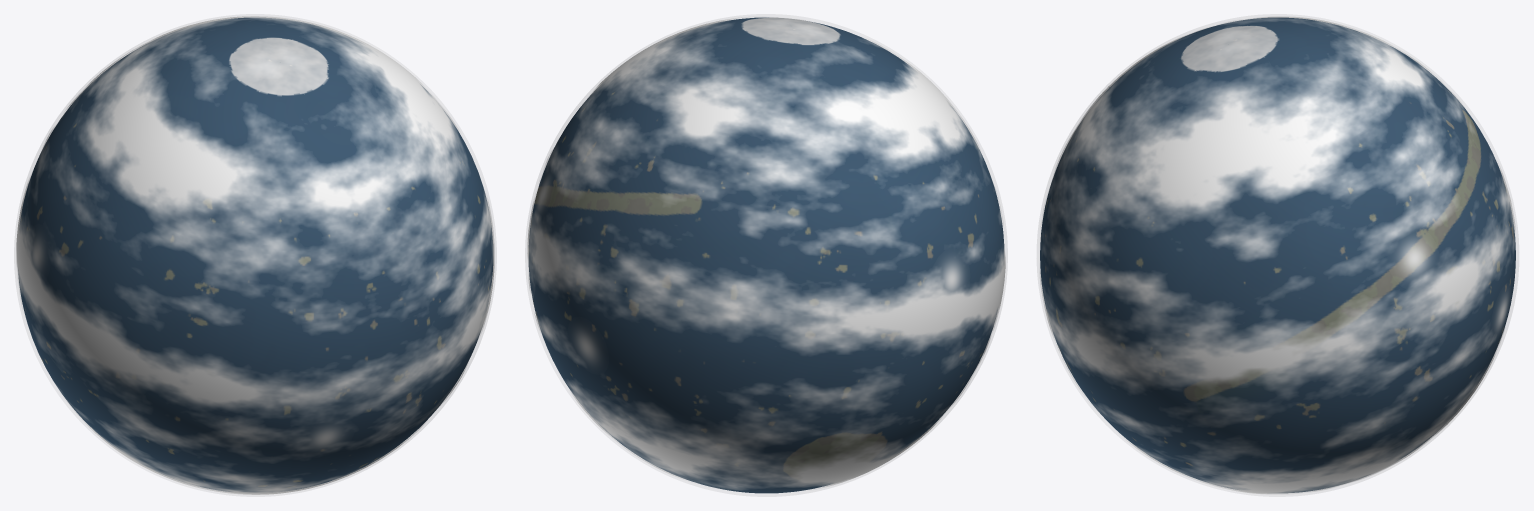
Rendered from kakakiko.glb.
The picture shows the model from 3 angles, left to right: view 1: azimuth 30°, elevation 25°; view 2: azimuth 150°, elevation 25°; view 3: azimuth 270°, elevation 25°; orthographic projection.
Visible parts, largest first — view 1: SM_kakakiko, SM_kakakiko_clouds, SM_kakakiko_seaice_north_winter, SM_kakakiko_atmosphere_PLACEHOLDER; view 2: SM_kakakiko, SM_kakakiko_clouds, SM_kakakiko_atmosphere_PLACEHOLDER, SM_kakakiko_seaice_north_winter; view 3: SM_kakakiko, SM_kakakiko_clouds, SM_kakakiko_atmosphere_PLACEHOLDER, SM_kakakiko_seaice_north_winter.
Part boxes in pixels (x1,y1,x2,y2): SM_kakakiko: (18,17,493,492); SM_kakakiko_clouds: (16,16,494,494); SM_kakakiko_seaice_north_winter: (229,37,328,96); SM_kakakiko_atmosphere_PLACEHOLDER: (14,14,496,496); SM_kakakiko: (528,17,1004,493); SM_kakakiko_clouds: (527,17,1005,490); SM_kakakiko_atmosphere_PLACEHOLDER: (525,14,1007,496); SM_kakakiko_seaice_north_winter: (741,17,840,44); SM_kakakiko: (1040,17,1515,493); SM_kakakiko_clouds: (1039,16,1515,494); SM_kakakiko_atmosphere_PLACEHOLDER: (1037,14,1518,496); SM_kakakiko_seaice_north_winter: (1181,26,1278,72).
Bounding box in the file's own units: 2.03 × 2.03 × 2.03.
Materials: 5 (5 with a texture image).
